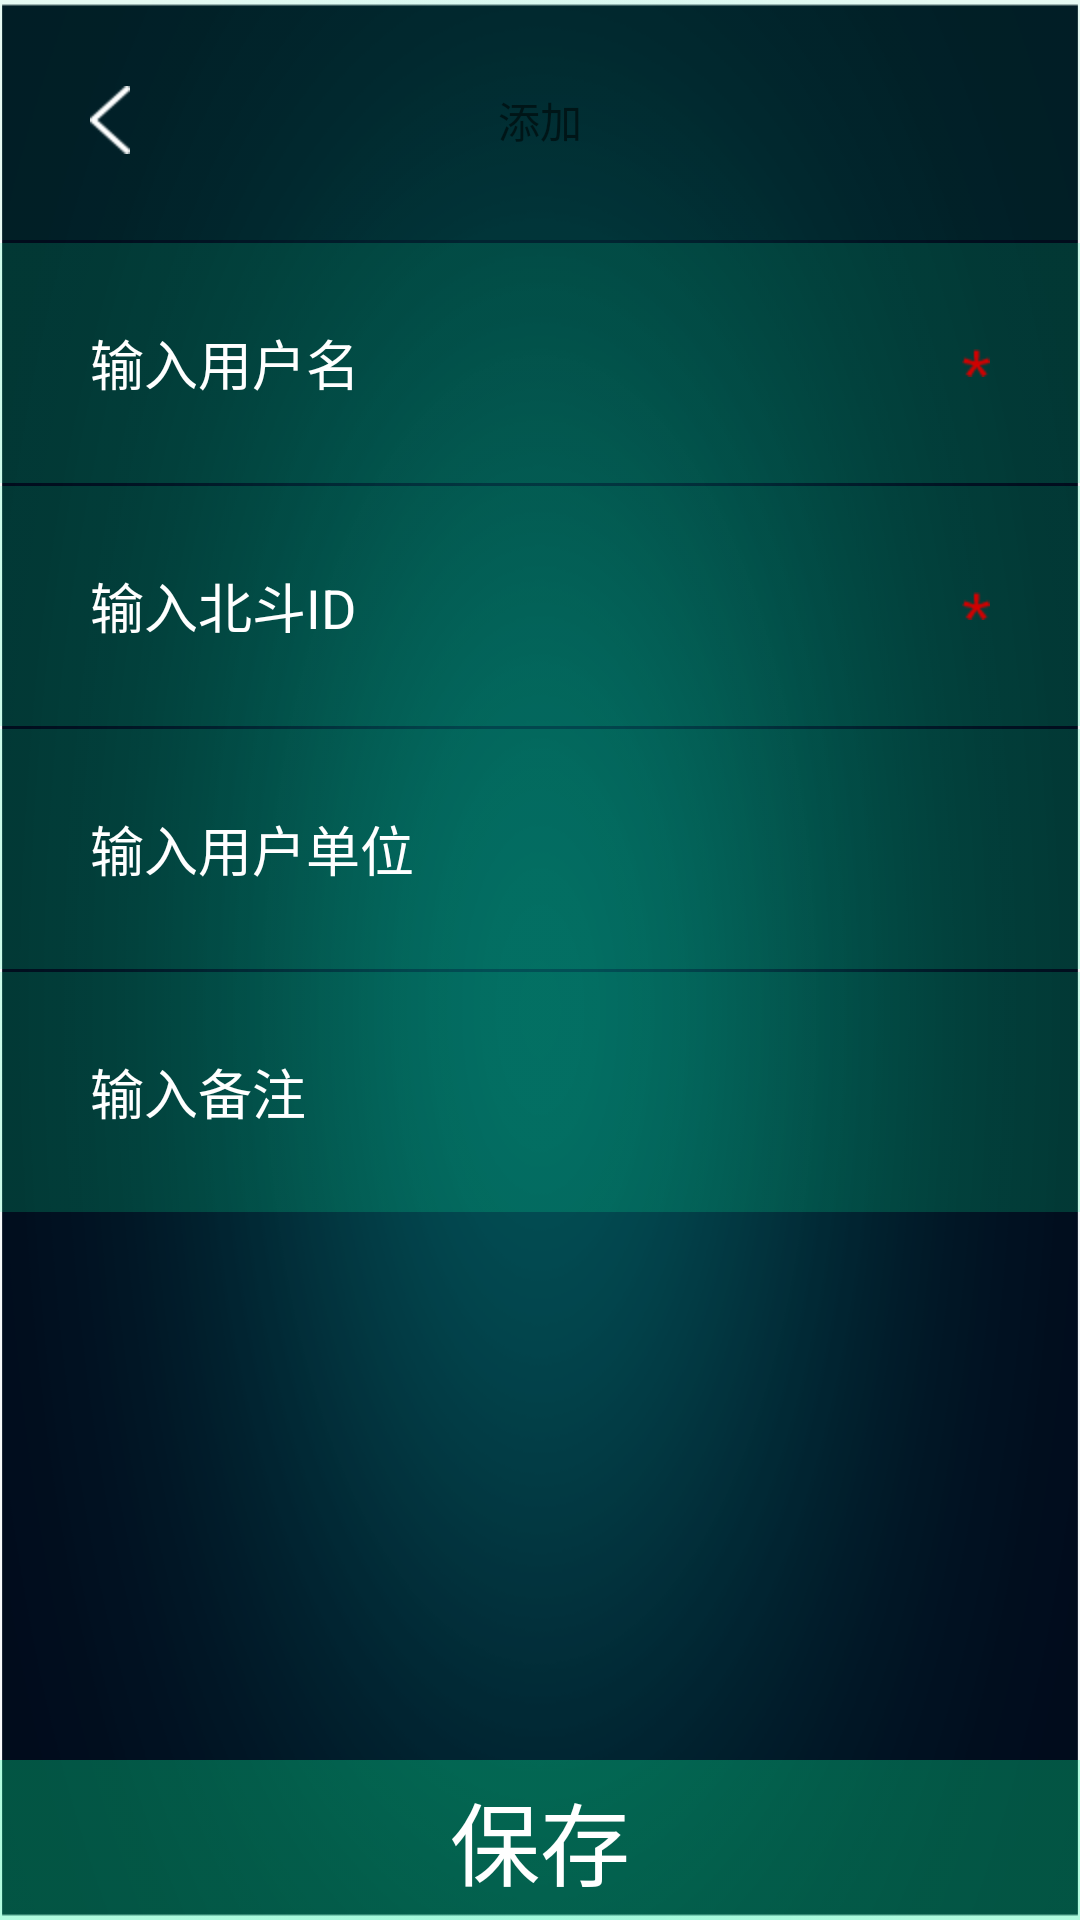

Point at icon controls on the screen. Image size 1080*1920, points as point (x, y).
bitian: point (976, 363), point (976, 606)
